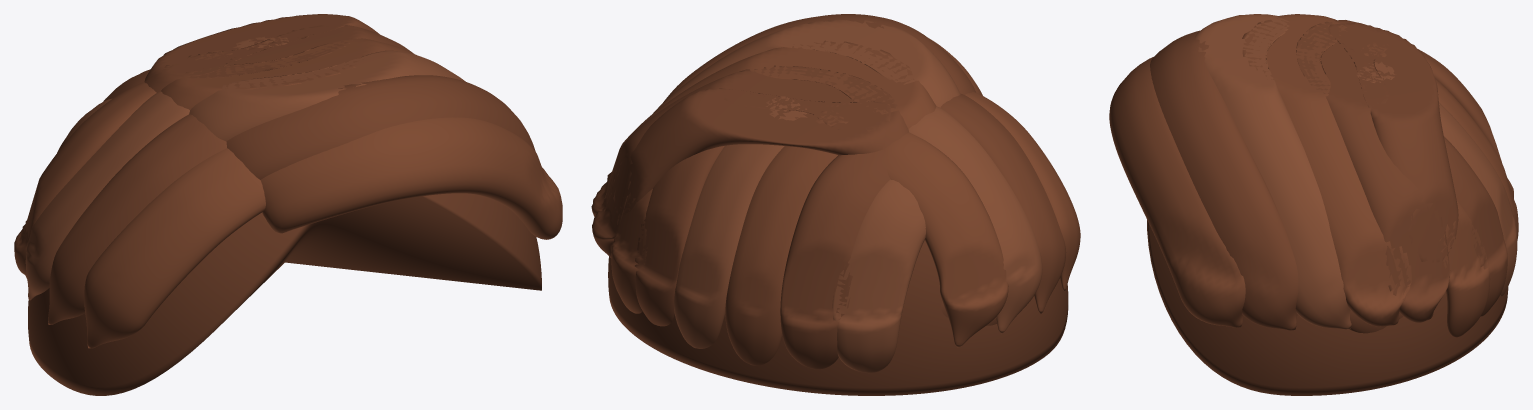
The model's file is Masculine-sidepart-bucket258-hair.glb.
The picture shows the model from 3 angles, left to right: view 1: azimuth 30°, elevation 25°; view 2: azimuth 150°, elevation 25°; view 3: azimuth 270°, elevation 25°; orthographic projection. The views are drawn at different scales.
Visible parts, largest first — view 1: 226 hair / Hair258 / sculpted side sweep 1, 226 hair / Hair258 / recessed roots, 226 hair / Hair258 / sculpted side sweep 0, 226 hair / Hair258 / sculpted side sweep 2; view 2: 226 hair / Hair258 / sculpted side sweep 0, 226 hair / Hair258 / sculpted side sweep 1, 226 hair / Hair258 / sculpted side sweep 2, 226 hair / Hair258 / recessed roots; view 3: 226 hair / Hair258 / sculpted side sweep 0, 226 hair / Hair258 / sculpted side sweep 1, 226 hair / Hair258 / sculpted side sweep 2, 226 hair / Hair258 / recessed roots.
Part boxes in pixels (x1,y1,x2,y2): 226 hair / Hair258 / sculpted side sweep 1: (14, 38, 562, 348); 226 hair / Hair258 / recessed roots: (28, 193, 541, 395); 226 hair / Hair258 / sculpted side sweep 0: (48, 14, 535, 324); 226 hair / Hair258 / sculpted side sweep 2: (25, 36, 465, 300); 226 hair / Hair258 / sculpted side sweep 0: (592, 14, 1066, 369); 226 hair / Hair258 / sculpted side sweep 1: (591, 38, 1080, 365); 226 hair / Hair258 / sculpted side sweep 2: (653, 19, 1042, 373); 226 hair / Hair258 / recessed roots: (608, 240, 1068, 395); 226 hair / Hair258 / sculpted side sweep 0: (1150, 20, 1513, 333); 226 hair / Hair258 / sculpted side sweep 1: (1109, 14, 1518, 337); 226 hair / Hair258 / sculpted side sweep 2: (1194, 14, 1517, 329); 226 hair / Hair258 / recessed roots: (1147, 220, 1508, 395).
Bounding box in the file's own units: 0.9741 × 0.5388 × 0.7913.
